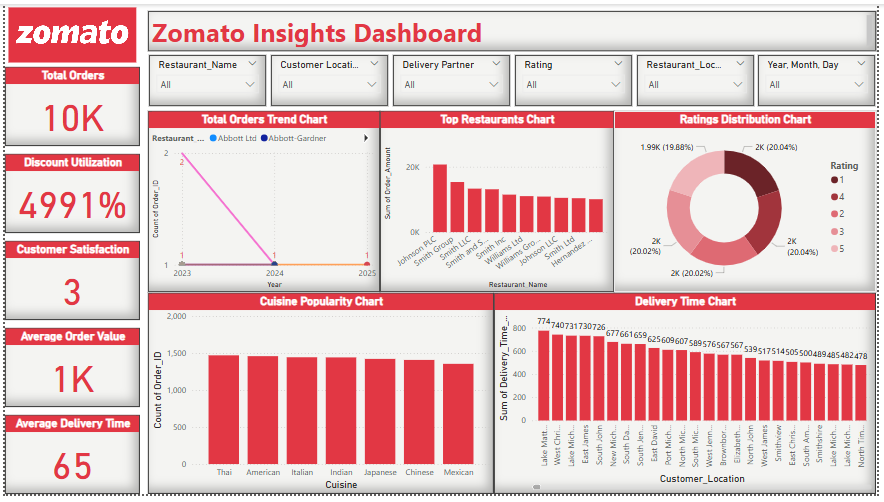

What the dashboard file says about the page in this screenshot:
{"tool":"powerbi","page":{"name":"Zomato Insights Dashboard","canvas":[1280,720],"ordinal":1},"visuals":[{"type":"card","title":"Total Orders","fields":{"Values":["Sheet1.Order_ID"]},"box":[0,92.6,198.4,116.1],"z":0},{"type":"card","title":"Average Delivery Time","fields":{"Values":["Sheet1.Delivery_Time_Minutes"]},"box":[0,603.9,198.4,116.1],"z":1000},{"type":"card","title":"Average Order Value","fields":{"Values":["Sheet1.Order_Amount"]},"box":[0,476.1,198.4,116.1],"z":2000},{"type":"card","title":"Customer Satisfaction","fields":{"Values":["Sheet1.Rating"]},"box":[0,348.2,198.4,116.1],"z":3000},{"type":"card","title":"Discount Utilization","fields":{"Values":["Sheet1.Discount Utilization (%)"]},"box":[0,220.4,198.4,116],"z":4000},{"type":"lineChart","title":"Total Orders Trend Chart","fields":{"Y":["Sheet1.Order_ID"],"Series":["Sheet1.Restaurant_Name"],"Category":["Sheet1.Order_Date.Variation.Date Hierarchy.Year"]},"box":[210.1,157.2,340.9,266],"z":5000},{"type":"clusteredColumnChart","title":"Delivery Time Chart","fields":{"Category":["Sheet1.Customer_Location"],"Y":["Sheet1.Delivery_Time_Minutes"]},"box":[718.5,424.7,561.3,295.3],"z":6000},{"type":"columnChart","title":"Top Restaurants Chart","fields":{"Category":["Sheet1.Restaurant_Name"],"Y":["Sheet1.Order_Amount"]},"box":[551,157.2,343.8,266],"z":7000},{"type":"donutChart","title":"Ratings Distribution Chart","fields":{"Y":["Sheet1.Order_ID"],"Category":["Sheet1.Rating"]},"box":[894.9,157.2,385,266],"z":8000},{"type":"columnChart","title":"Cuisine Popularity Chart","fields":{"Category":["Sheet1.Cuisine"],"Y":["Sheet1.Order_ID"]},"box":[210.1,424.7,508.4,295.3],"z":9000},{"type":"textbox","box":[210.1,10.3,1069.7,58.8],"z":10000},{"type":"image","box":[0,0,198.4,91.1],"z":11000},{"type":"slicer","fields":{"Values":["Sheet1.Restaurant_Name"]},"box":[211.6,74.9,172,74.9],"z":12000},{"type":"slicer","fields":{"Values":["Sheet1.Customer_Location"]},"box":[390.9,74.9,171.9,74.9],"z":13000},{"type":"slicer","fields":{"Values":["Sheet1.Delivery_Partner"]},"box":[570.1,74.9,171.9,74.9],"z":14000},{"type":"slicer","fields":{"Values":["Sheet1.Rating"]},"box":[749.4,74.9,171.9,74.9],"z":15000},{"type":"slicer","fields":{"Values":["Sheet1.Restaurant_Location"]},"box":[928.7,74.9,171.9,74.9],"z":16000},{"type":"slicer","fields":{"Values":["Sheet1.Order_Date.Variation.Date Hierarchy.Year","Sheet1.Order_Date.Variation.Date Hierarchy.Month","Sheet1.Order_Date.Variation.Date Hierarchy.Day"]},"box":[1106.4,74.9,172,74.9],"z":17000}]}

Visuals, with their boxes in screenshot pixels (x1, y1, x2, y2), scaled from the page's 1280x720 canvas onto the 884x502 screenshot:
"Total Orders" card: select_region(0, 65, 137, 146)
"Average Delivery Time" card: select_region(0, 421, 137, 501)
"Average Order Value" card: select_region(0, 332, 137, 413)
"Customer Satisfaction" card: select_region(0, 243, 137, 324)
"Discount Utilization" card: select_region(0, 154, 137, 235)
"Total Orders Trend Chart" lineChart: select_region(145, 110, 381, 295)
"Delivery Time Chart" clusteredColumnChart: select_region(496, 296, 883, 501)
"Top Restaurants Chart" columnChart: select_region(381, 110, 618, 295)
"Ratings Distribution Chart" donutChart: select_region(618, 110, 883, 295)
"Cuisine Popularity Chart" columnChart: select_region(145, 296, 496, 501)
textbox: select_region(145, 7, 883, 48)
image: select_region(0, 0, 137, 64)
slicer - Sheet1.Restaurant_Name: select_region(146, 52, 265, 104)
slicer - Sheet1.Customer_Location: select_region(270, 52, 389, 104)
slicer - Sheet1.Delivery_Partner: select_region(394, 52, 512, 104)
slicer - Sheet1.Rating: select_region(518, 52, 636, 104)
slicer - Sheet1.Restaurant_Location: select_region(641, 52, 760, 104)
slicer - Sheet1.Order_Date.Variation.Date Hierarchy.Year x Sheet1.Order_Date.Variation.Date Hierarchy.Month: select_region(764, 52, 883, 104)
